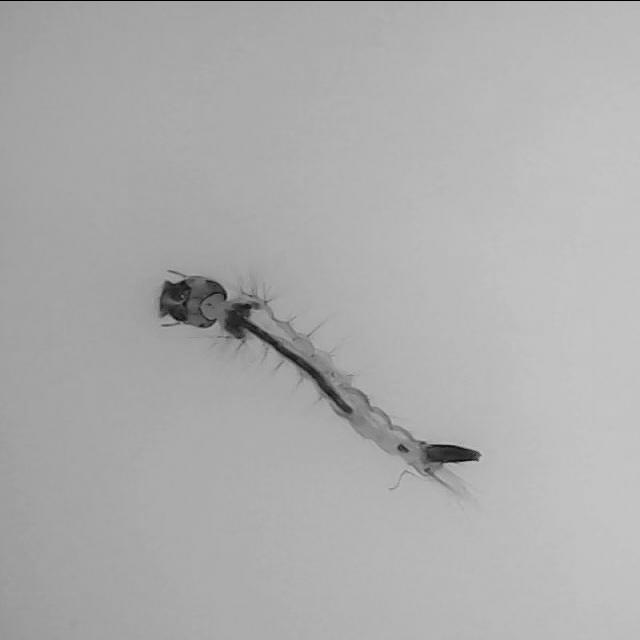larvas: (157, 270, 478, 493)
